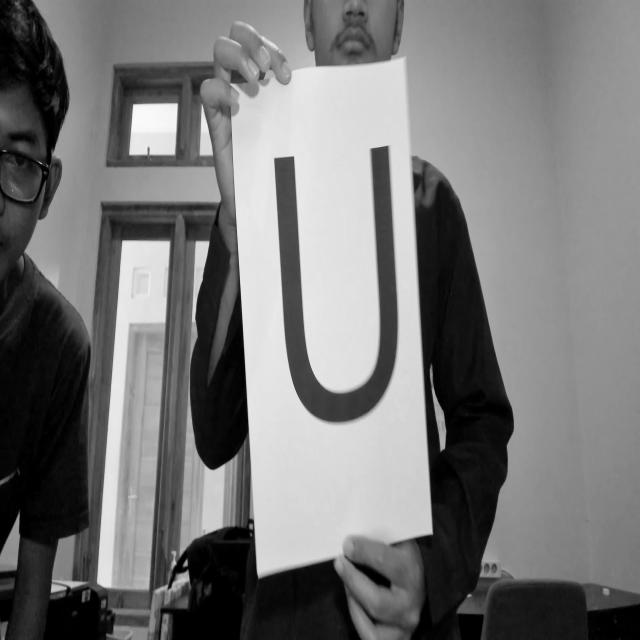u: (258, 114, 424, 452)
